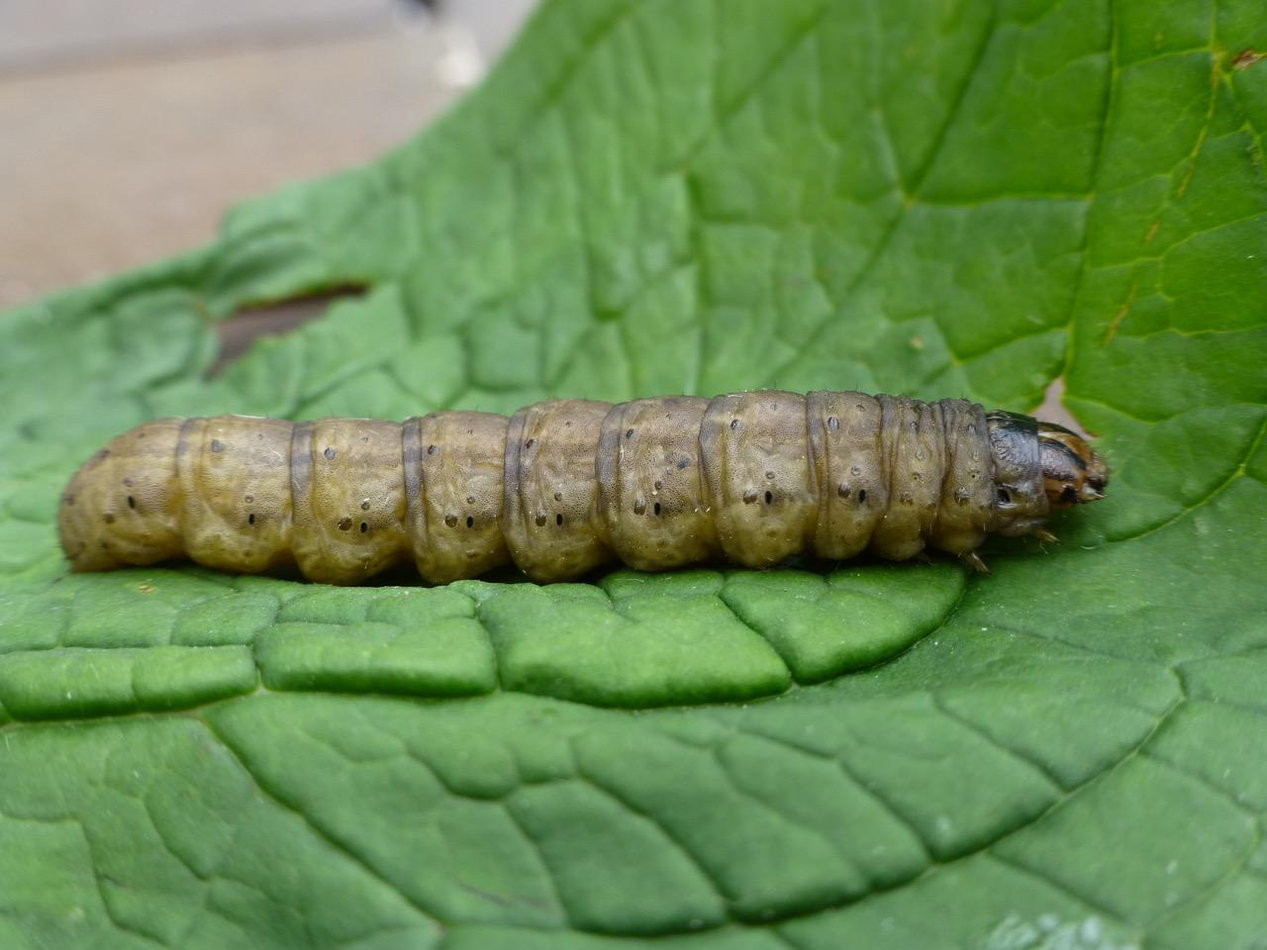caterpillars: (0, 281, 1263, 731)
